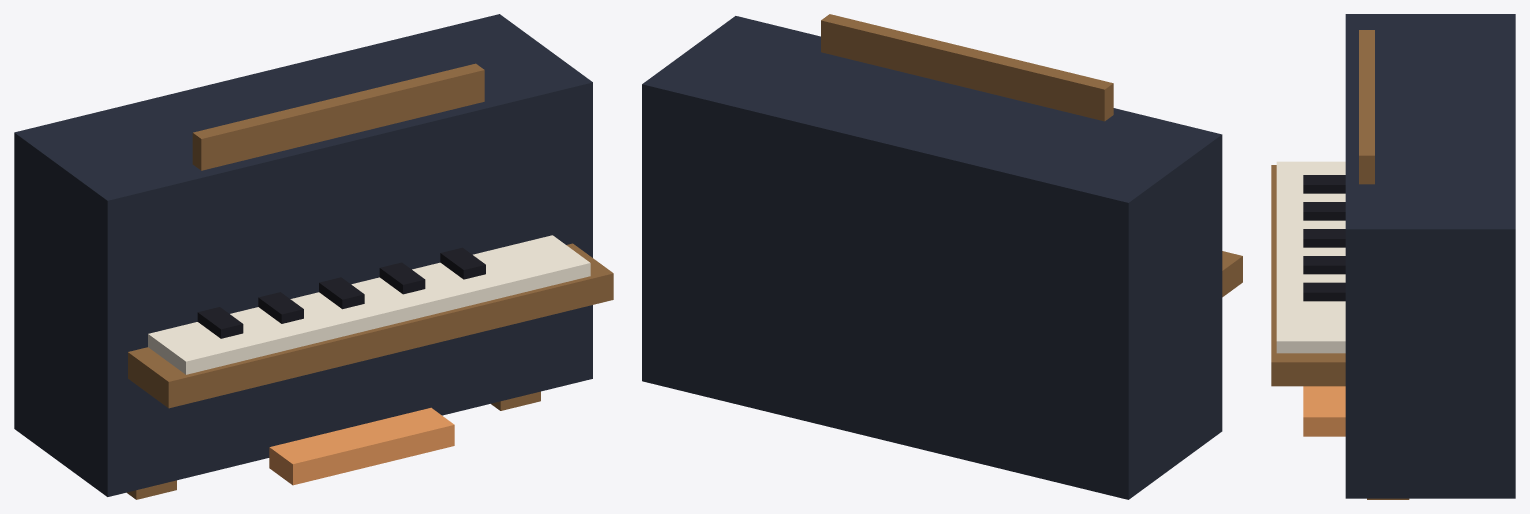
Rendered from piano.glb.
3 renders of one model, left to right at view 1: azimuth 30°, elevation 25°; view 2: azimuth 150°, elevation 25°; view 3: azimuth 270°, elevation 25°, orthographic. The views are drawn at different scales.
Visible parts, largest first — view 1: piano; view 2: piano; view 3: piano.
Boxes of the visible parts, left/top/right/bottom form: piano: left=14, top=14, right=613, bottom=499; piano: left=642, top=14, right=1242, bottom=499; piano: left=1271, top=14, right=1515, bottom=499.
Bounding box in the file's own units: 48 × 33 × 23.
